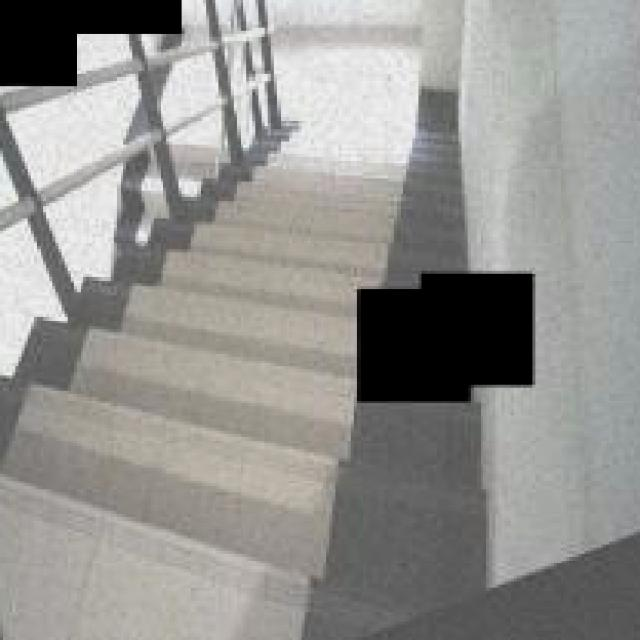downstair: (238, 20, 521, 260)
